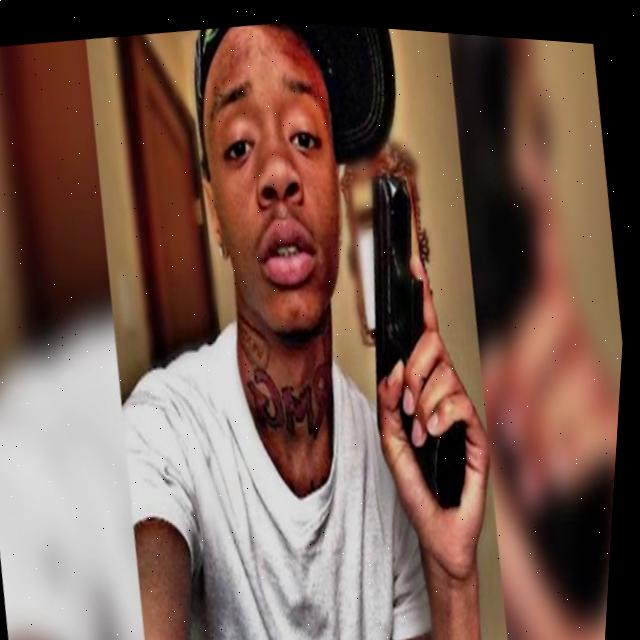pistol: (340, 155, 457, 443)
